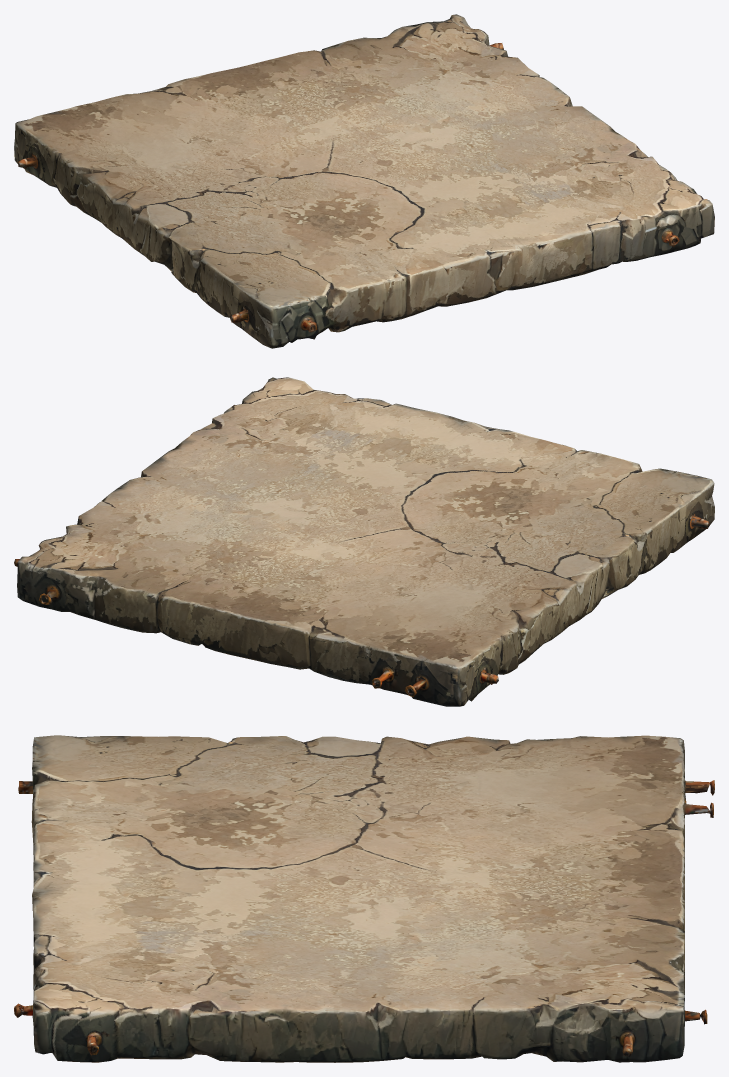
Rendered from Settle_RoofPatch_Concrete.fbx.
3 views of the same model, one above another, from view 1: azimuth 30°, elevation 25°; view 2: azimuth 150°, elevation 25°; view 3: azimuth 270°, elevation 25° (orthographic). The views are drawn at different scales.
Parts seen in each view (by area): view 1: texture_mapping; view 2: texture_mapping; view 3: texture_mapping.
Boxes of the visible parts, x1,y1,x2,y2 form: texture_mapping: [14, 14, 714, 348]; texture_mapping: [14, 377, 714, 706]; texture_mapping: [14, 735, 714, 1062].
Size of the model in its own units: 0.9982 by 0.992 by 0.0938.
1 material, 1 textured.
